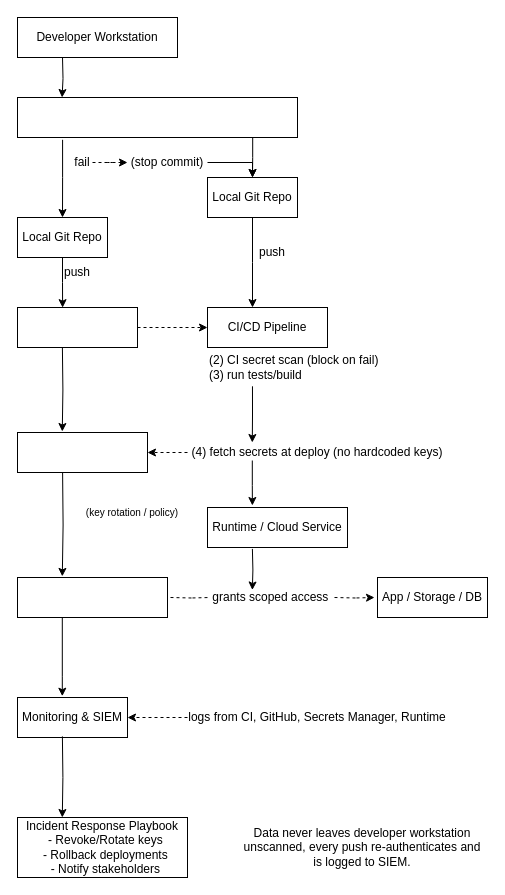
Some shapes in this 505 by 895 pixel diagram are drawn without their labels. The shapes that lost their labels are listed below. From the top down, each one's centre as x and y in pixels, then its label:
the point at 157,117: Pre-commit Hook / Local Secret Scanner
the point at 77,327: Remote GitHub Repo
the point at 82,452: Secrets Manager / KMS
the point at 92,597: IAM (Least Privilege Roles)
